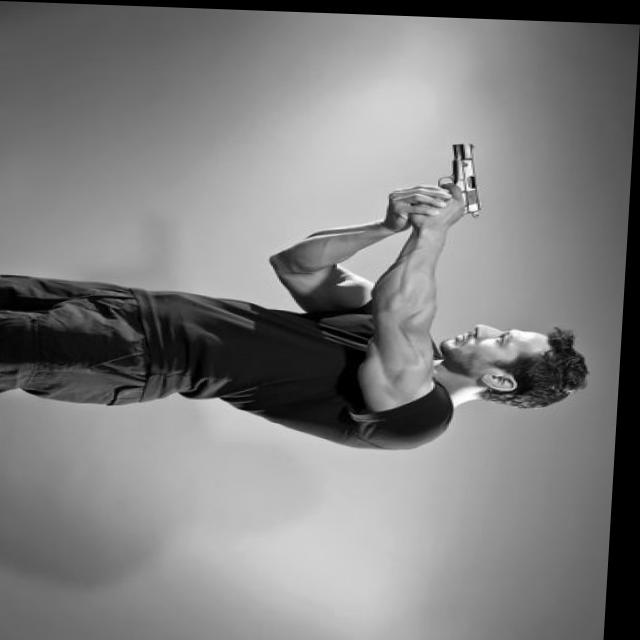handgun: (400, 134, 489, 217)
